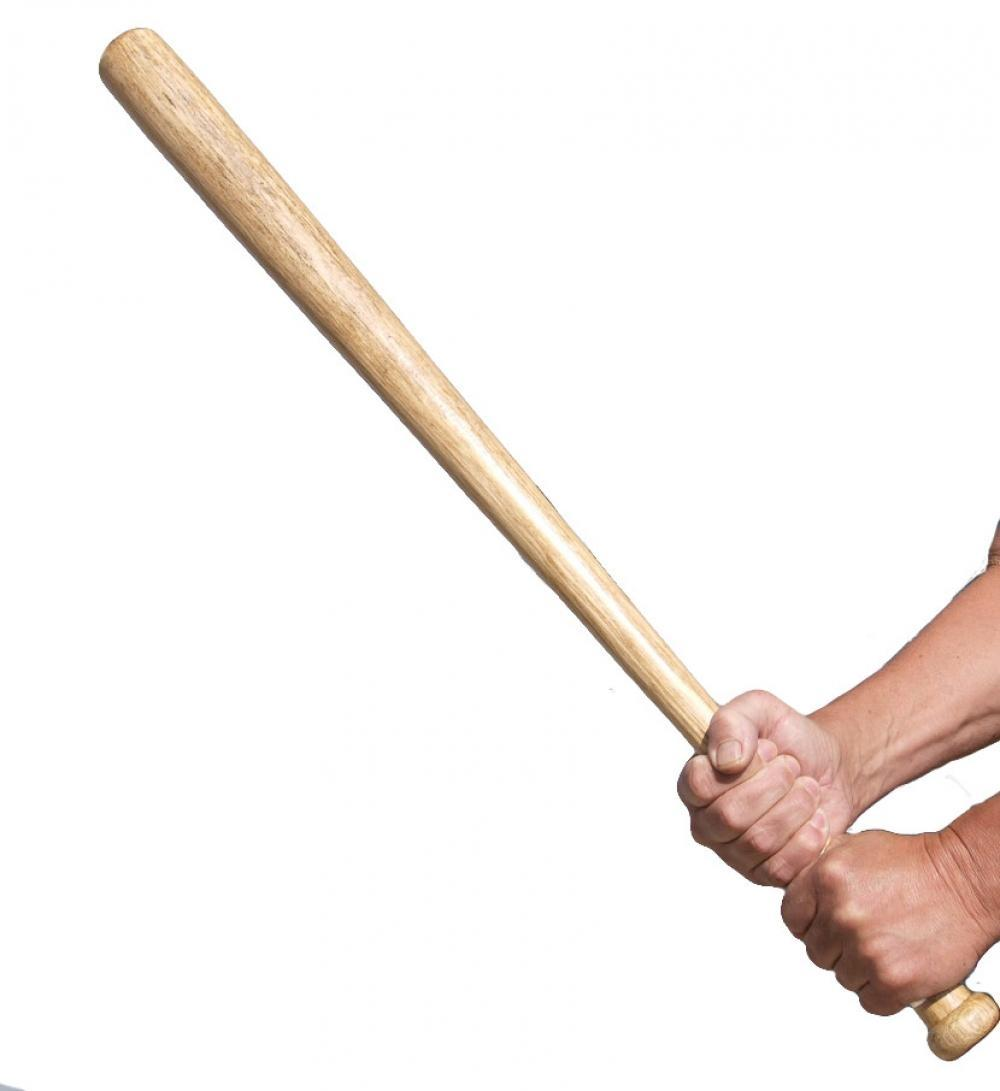Baseball-Bat: (40, 27, 700, 741)
